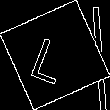L_N: (32, 26, 78, 84)
